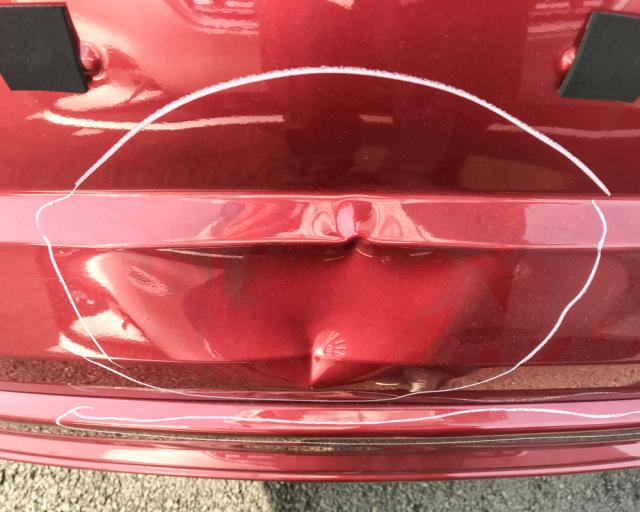dent: (92, 235, 478, 387), (335, 199, 380, 238)
